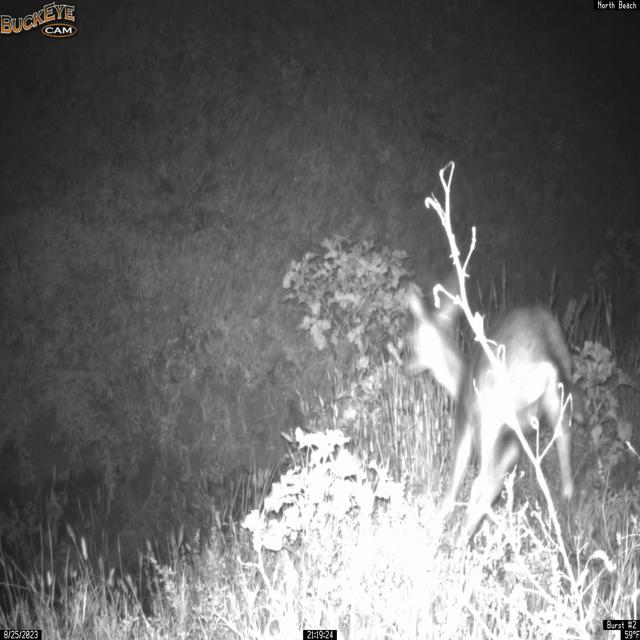deer: (401, 270, 585, 551)
